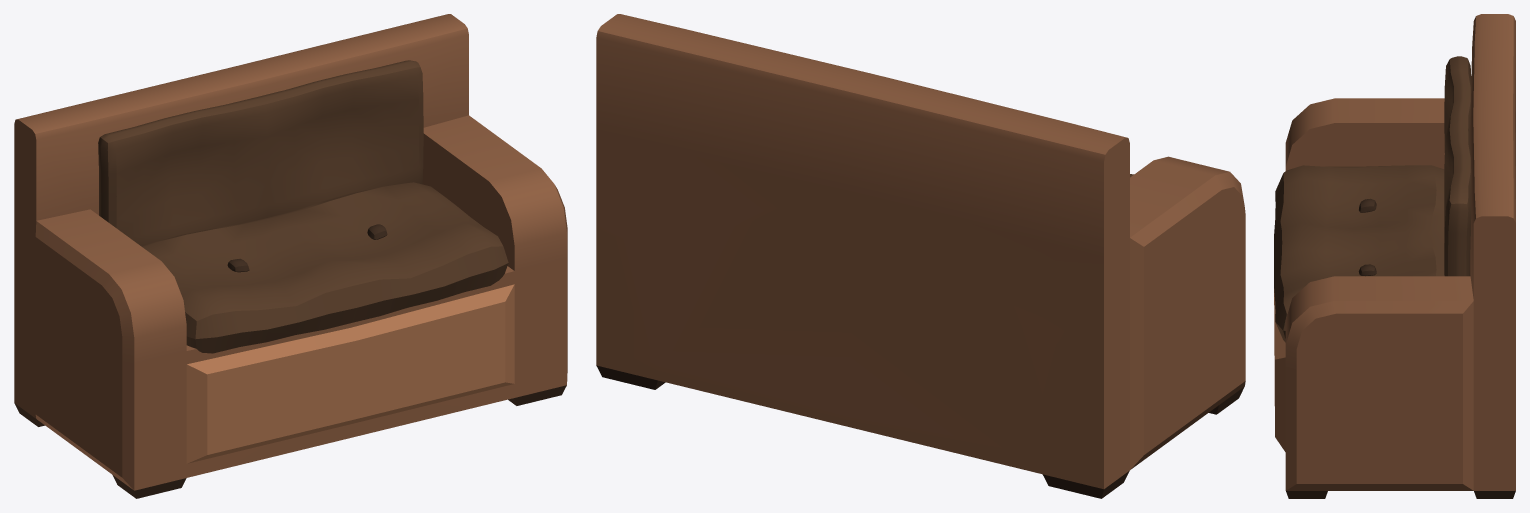
File: sofa.fbx
3 views of the same model, side by side, from view 1: azimuth 30°, elevation 25°; view 2: azimuth 150°, elevation 25°; view 3: azimuth 270°, elevation 25° (orthographic). The views are drawn at different scales.
Visible parts, largest first — view 1: Cube; view 2: Cube; view 3: Cube.
Part boxes in pixels (<box>): Cube: <box>14,14,567,498</box>; Cube: <box>596,14,1245,498</box>; Cube: <box>1274,14,1515,498</box>.
Size of the model in its own units: 2.62 by 1.67 by 1.29.
